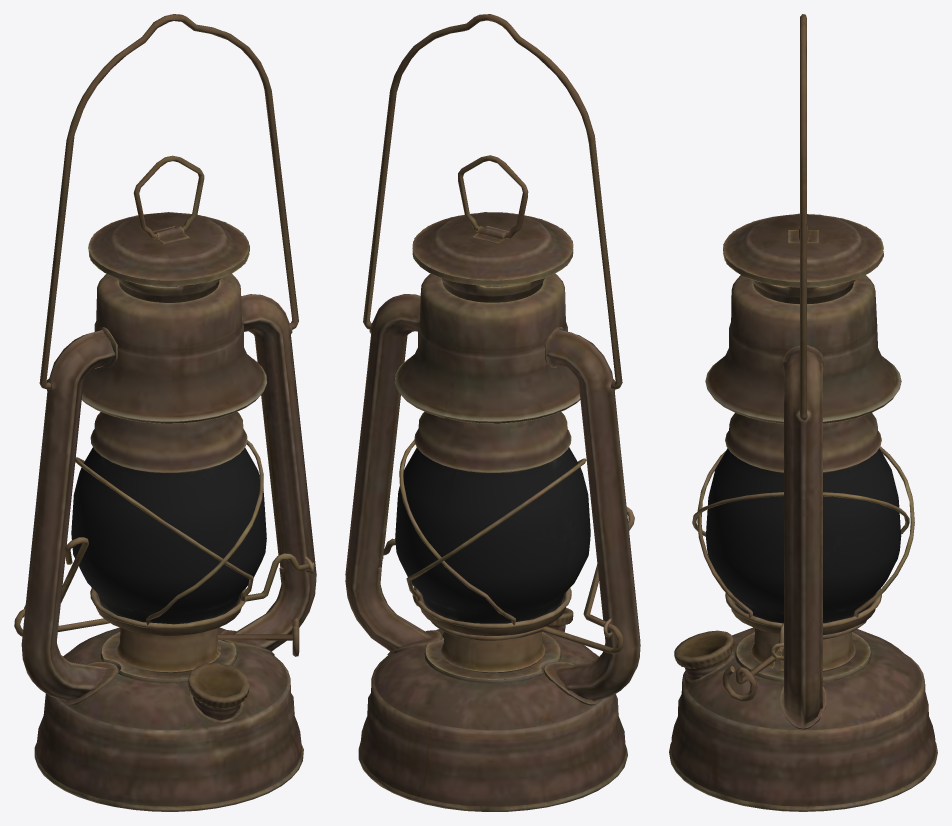
File: ph_Lantern_01.glb
3 renders of one model, left to right at view 1: azimuth 30°, elevation 25°; view 2: azimuth 150°, elevation 25°; view 3: azimuth 270°, elevation 25°, orthographic.
Parts seen in each view (by area): view 1: Lantern_01; view 2: Lantern_01; view 3: Lantern_01.
Part boxes in pixels (left/top/right/bottom): Lantern_01: left=14, top=14, right=316, bottom=811; Lantern_01: left=345, top=14, right=640, bottom=811; Lantern_01: left=669, top=14, right=937, bottom=811.
Size of the model in its own units: 0.1221 by 0.2942 by 0.0971.
Materials: 2 (2 with a texture image).
